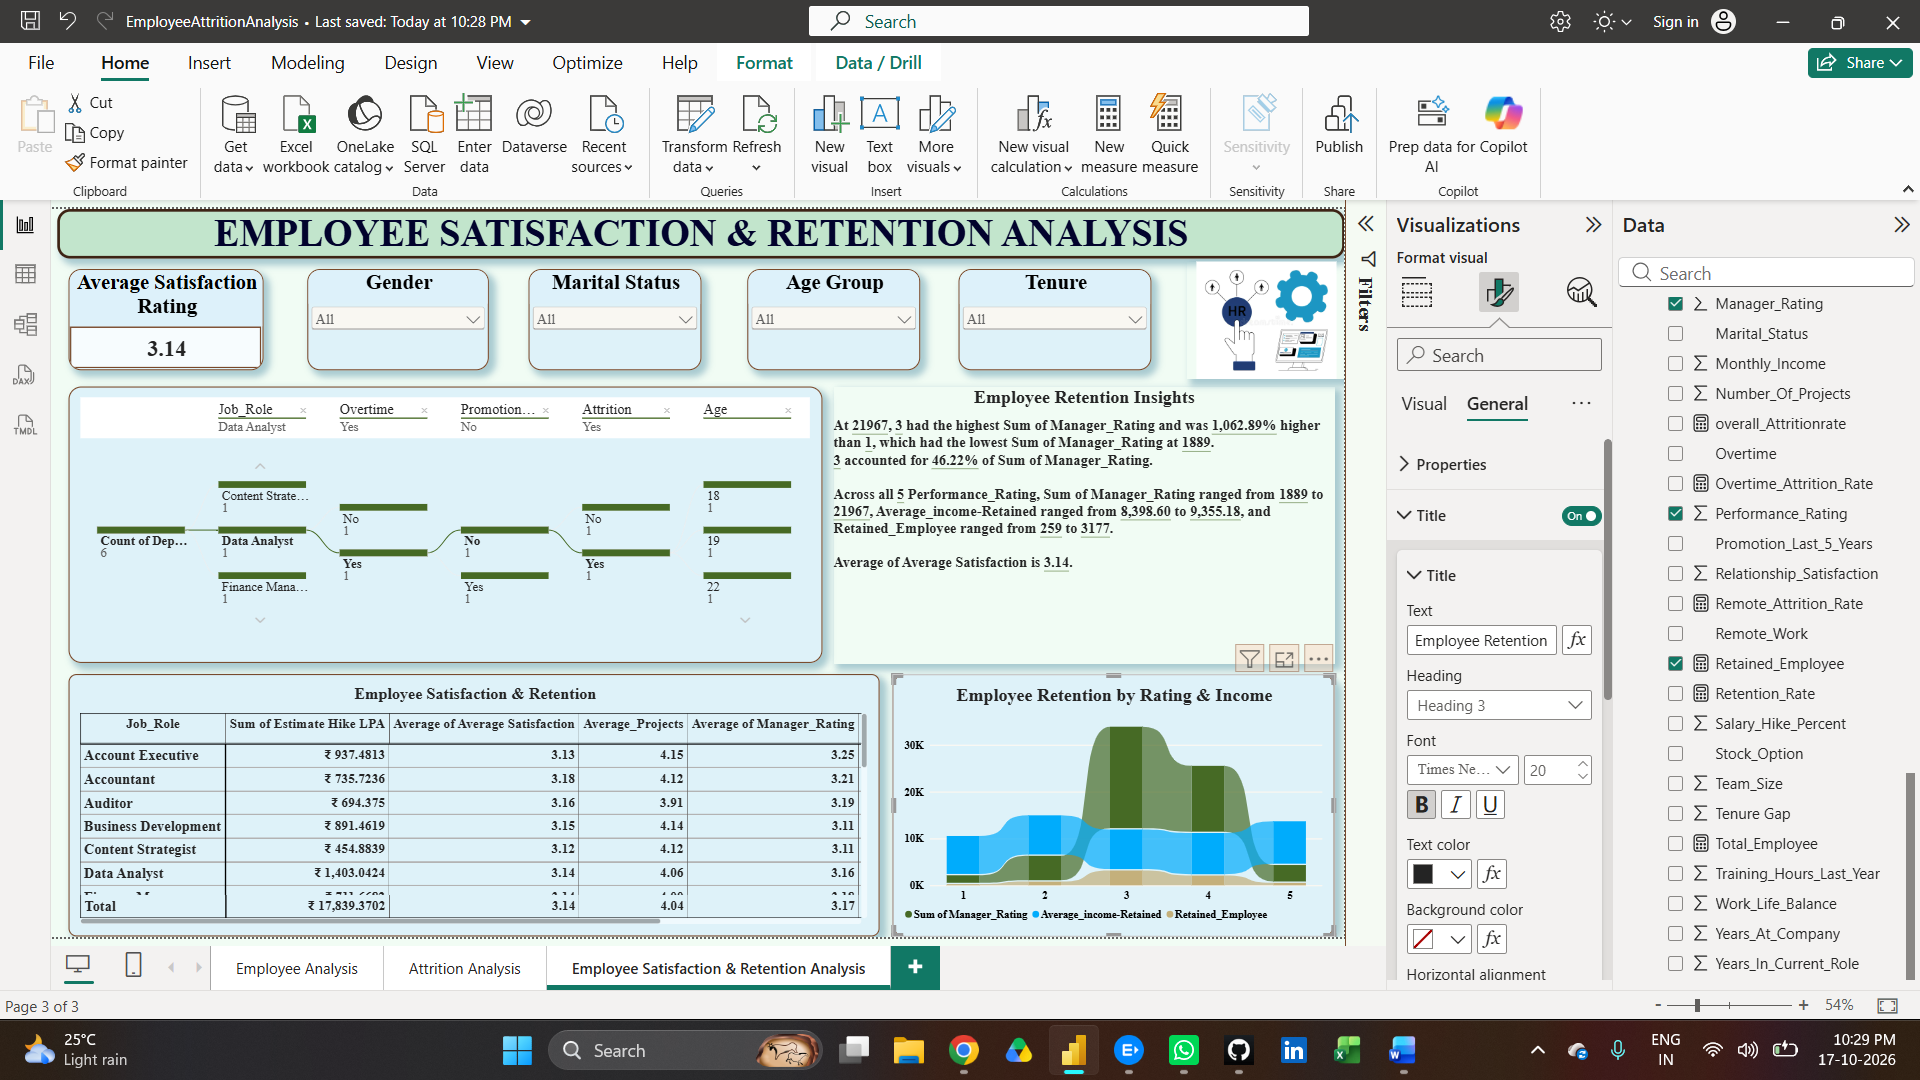

The dashboard page shown, as its layout file describes it:
{"tool":"powerbi","page":{"name":"Employee Satisfaction & Retention Analysis","canvas":[1920,1080],"ordinal":2},"visuals":[{"type":"textbox","box":[9.2,0,1911.3,73.4],"z":0},{"type":"cardVisual","title":"Average Satisfaction Rating","fields":{"Data":["Avg(Table1.Average Satisfaction)"]},"box":[25.7,89.9,289.8,150.4],"z":1000},{"type":"slicer","title":"Gender","fields":{"Values":["Table1.Gender","Table1.Gender"]},"box":[379.7,89.9,269.6,150.4],"z":2000},{"type":"slicer","title":"Marital Status","fields":{"Values":["Table1.Marital_Status"]},"box":[708,89.9,256.8,150.4],"z":3000},{"type":"slicer","title":"Age Group","fields":{"Values":["Attrition Analysis.Age Group"]},"box":[1032.7,89.9,256.8,150.4],"z":4000},{"type":"slicer","title":"Tenure","fields":{"Values":["Attrition Analysis.Tenure"]},"box":[1346.3,89.9,286.1,150.4],"z":5000},{"type":"pivotTable","title":"Employee Satisfaction & Retention","fields":{"Rows":["Table1.Job_Role"],"Values":["Sum(Attrition Analysis.Estimate Hike LPA)","Avg(Table1.Average Satisfaction)","Table1.Average_Projects","Avg(Table1.Manager_Rating)","Table1.Retained_Employee","Table1.Retention_Rate"]},"box":[26,690.2,1204.2,389.6],"z":6000},{"type":"decompositionTreeVisual","fields":{"Analyze":["Count(Table1.Department)"],"ExplainBy":["Table1.Job_Role","Table1.Overtime","Table1.Promotion_Last_5_Years","Table1.Attrition","Table1.Age"]},"box":[26,263.5,1118.8,410.1],"z":7000},{"type":"ribbonChart","title":"Employee Retention by Rating & Income","fields":{"Category":["Table1.Performance_Rating"],"Y":["Sum(Table1.Manager_Rating)","Table1.Average_income-Retained","Table1.Retained_Employee"]},"box":[1249.1,689.7,656.7,390.7],"z":8000},{"type":"textbox","title":"Employee Retention Insights","box":[1161.1,264.1,744.7,410.9],"z":9000},{"type":"image","box":[1685.7,77,234.8,174.3],"z":10000}]}

Visuals, with their boxes on the page's 1920x1080 design canvas (x1, y1, x2, y2). These are canvas units, not pixel positions in the 1920x1080 screenshot, which may show the page scaled, cropped or inside an application window:
textbox: x1=9 y1=0 x2=1920 y2=73
"Average Satisfaction Rating" cardVisual: x1=26 y1=90 x2=316 y2=240
"Gender" slicer: x1=380 y1=90 x2=649 y2=240
"Marital Status" slicer: x1=708 y1=90 x2=965 y2=240
"Age Group" slicer: x1=1033 y1=90 x2=1290 y2=240
"Tenure" slicer: x1=1346 y1=90 x2=1632 y2=240
"Employee Satisfaction & Retention" pivotTable: x1=26 y1=690 x2=1230 y2=1080
decompositionTreeVisual - Count(Table1.Department) x Table1.Job_Role: x1=26 y1=264 x2=1145 y2=674
"Employee Retention by Rating & Income" ribbonChart: x1=1249 y1=690 x2=1906 y2=1080
"Employee Retention Insights" textbox: x1=1161 y1=264 x2=1906 y2=675
image: x1=1686 y1=77 x2=1920 y2=251
